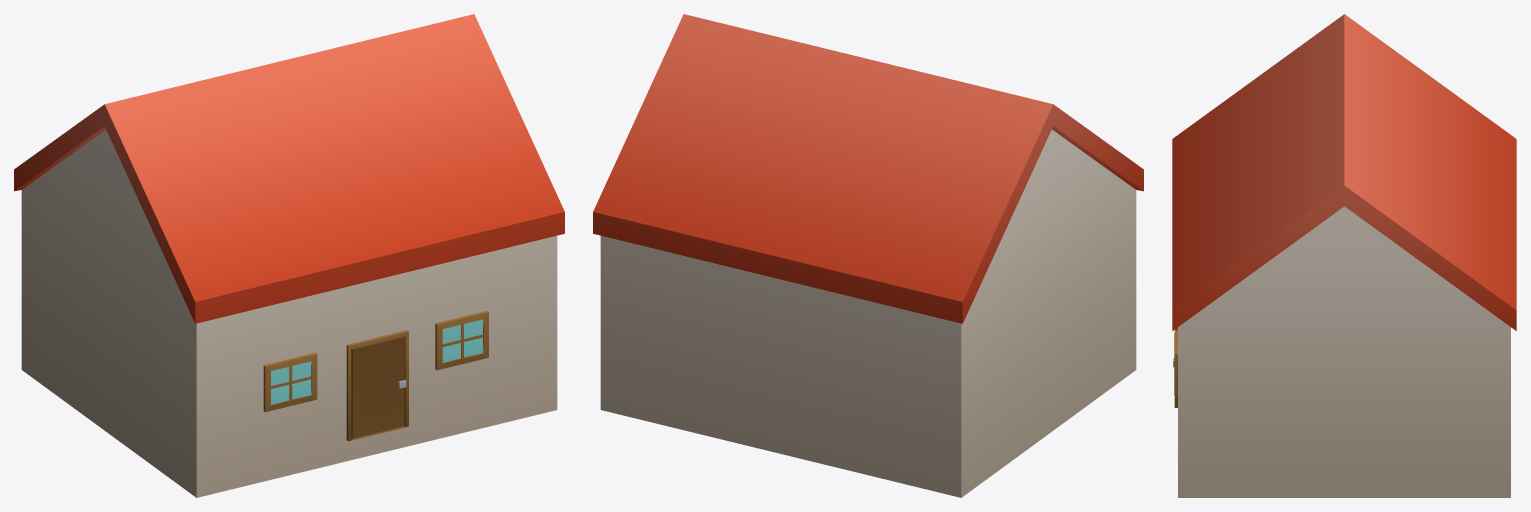
The model's file is HouseSmall.fbx.
3 renders of one model, left to right at view 1: azimuth 30°, elevation 25°; view 2: azimuth 150°, elevation 25°; view 3: azimuth 270°, elevation 25°, orthographic. The views are drawn at different scales.
Visible parts, largest first — view 1: 1 House scale.001; view 2: 1 House scale.001; view 3: 1 House scale.001.
Boxes of the visible parts, <box> form: 1 House scale.001: <box>14,14,564,497</box>; 1 House scale.001: <box>593,14,1143,497</box>; 1 House scale.001: <box>1172,14,1516,497</box>.
Size of the model in its own units: 1220 by 1043 by 1035.
